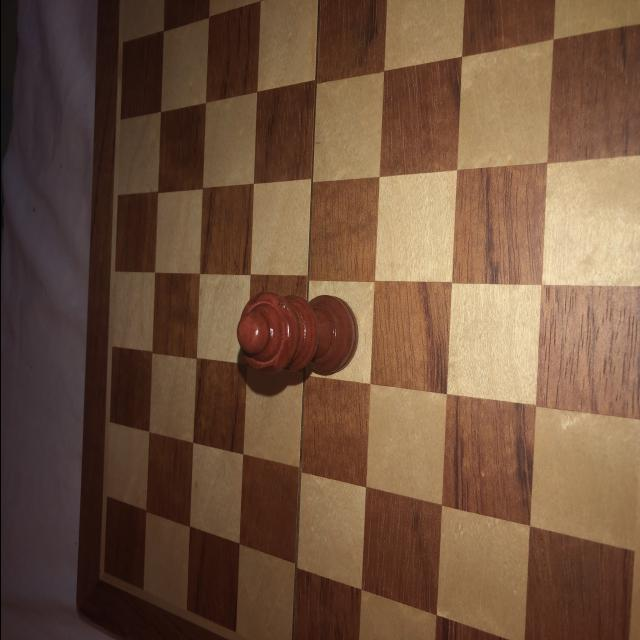black_queen: (234, 291, 360, 377)
